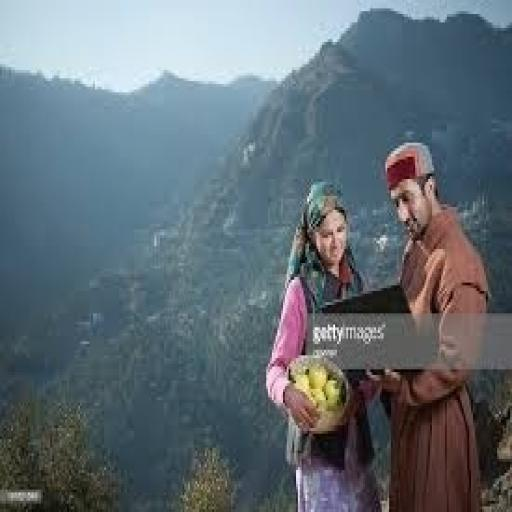using_laptop: (292, 264, 501, 468)
